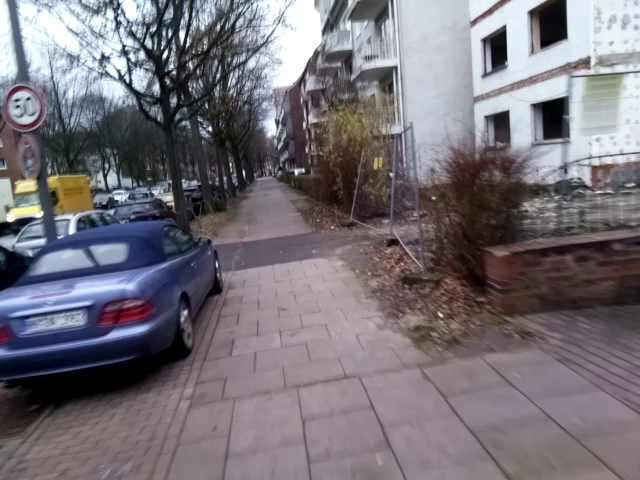car: (5, 221, 229, 391)
